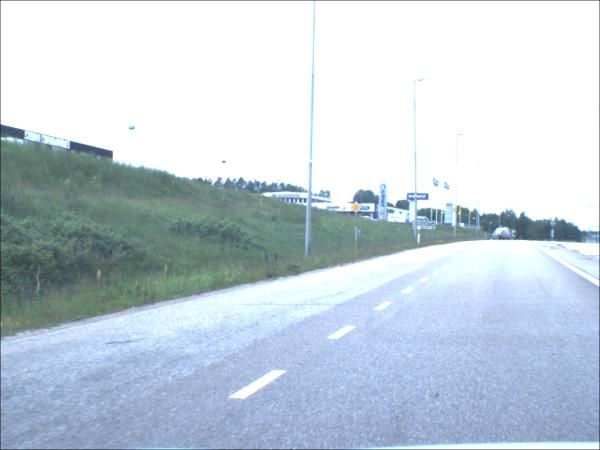PRIORITY_ROAD: (351, 203, 363, 215)
